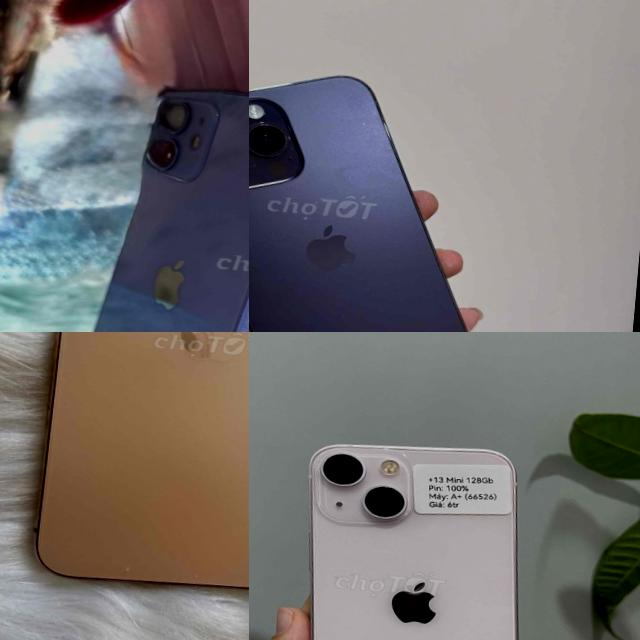gen_11: (23, 332, 249, 603)
gen_12_13: (280, 428, 547, 640), (52, 76, 249, 332)
gen_14: (249, 56, 512, 332)
